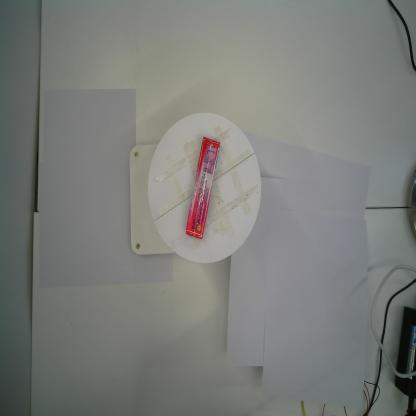Candy: (185, 136, 221, 240)
